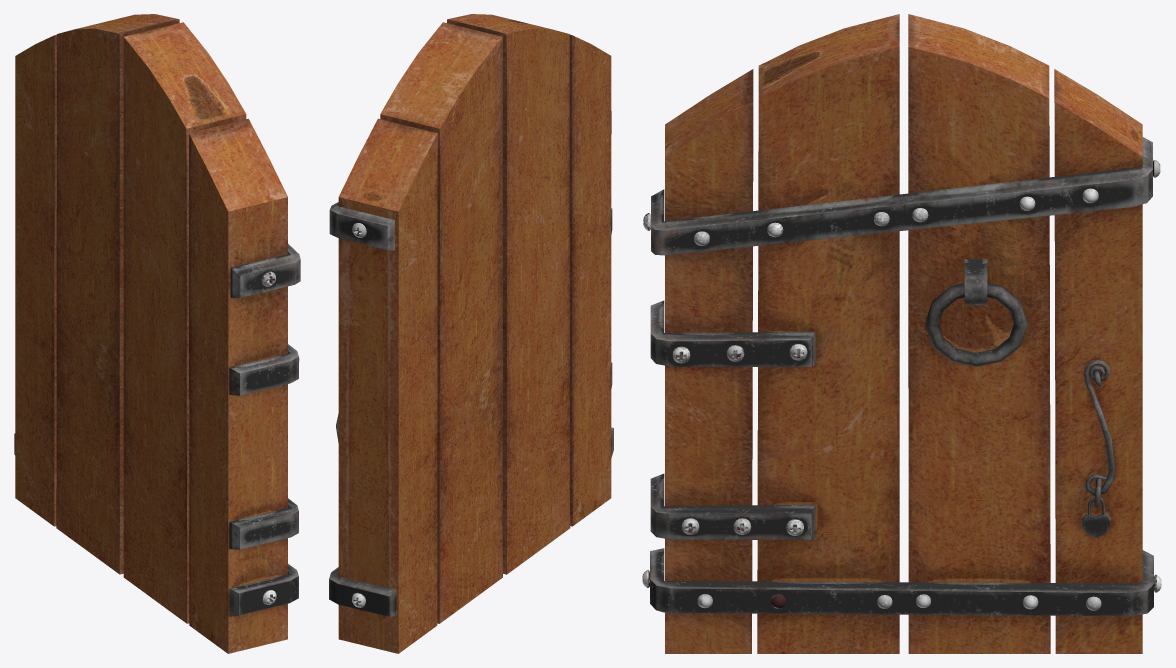
3 renders of one model, left to right at view 1: azimuth 30°, elevation 25°; view 2: azimuth 150°, elevation 25°; view 3: azimuth 270°, elevation 25°, orthographic. The views are drawn at different scales.
Parts seen in each view (by area): view 1: pasted___04wood_low, pasted___03wood_low, pasted___03wood_low1, pasted___04wood_low1, pasted___01metal_top_low, pasted___02metal_top_low1, pasted___02metal_top_low, pasted___04metal_top_low; view 2: pasted___04wood_low1, pasted___03wood_low1, pasted___03wood_low, pasted___04wood_low, pasted___01metal_top_low, pasted___04metal_top_low; view 3: pasted___03wood_low, pasted___03wood_low1, pasted___04wood_low1, pasted___04wood_low, pasted___01metal_top_low, pasted___04metal_top_low, pasted___02metal_top_low, pasted___02metal_top_low1, pasted___07metal_top_low, pasted___10metal_top_low, pasted___06metal_top_low.
Boxes of the visible parts, bbox=[...] form: pasted___04wood_low: bbox=[189, 118, 287, 653]; pasted___03wood_low: bbox=[123, 22, 246, 623]; pasted___03wood_low1: bbox=[56, 14, 179, 574]; pasted___04wood_low1: bbox=[15, 34, 56, 526]; pasted___01metal_top_low: bbox=[230, 244, 300, 297]; pasted___02metal_top_low1: bbox=[229, 498, 298, 549]; pasted___02metal_top_low: bbox=[229, 344, 298, 395]; pasted___04metal_top_low: bbox=[14, 433, 298, 616]; pasted___04wood_low1: bbox=[338, 118, 437, 653]; pasted___03wood_low1: bbox=[380, 22, 502, 623]; pasted___03wood_low: bbox=[447, 14, 570, 574]; pasted___04wood_low: bbox=[569, 34, 611, 526]; pasted___01metal_top_low: bbox=[329, 111, 611, 250]; pasted___04metal_top_low: bbox=[329, 427, 613, 616]; pasted___03wood_low: bbox=[757, 14, 899, 653]; pasted___03wood_low1: bbox=[908, 14, 1050, 653]; pasted___04wood_low1: bbox=[1054, 69, 1142, 653]; pasted___04wood_low: bbox=[665, 69, 753, 653]; pasted___01metal_top_low: bbox=[651, 137, 1152, 255]; pasted___04metal_top_low: bbox=[650, 548, 1153, 616]; pasted___02metal_top_low: bbox=[650, 300, 815, 366]; pasted___02metal_top_low1: bbox=[650, 473, 815, 540]; pasted___07metal_top_low: bbox=[925, 283, 1027, 366]; pasted___10metal_top_low: bbox=[1084, 360, 1114, 495]; pasted___06metal_top_low: bbox=[964, 259, 987, 305].
Bounding box in the file's own units: 25.79 × 141 × 109.
3 materials, 3 textured.
